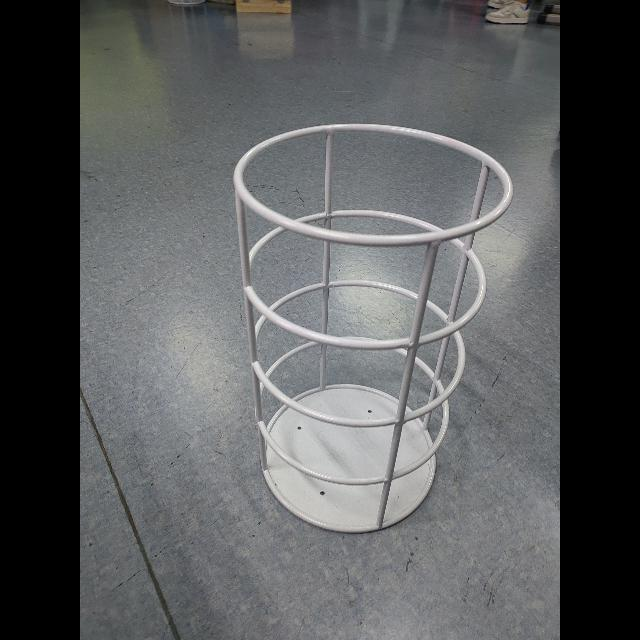S: (231, 119, 515, 536)
